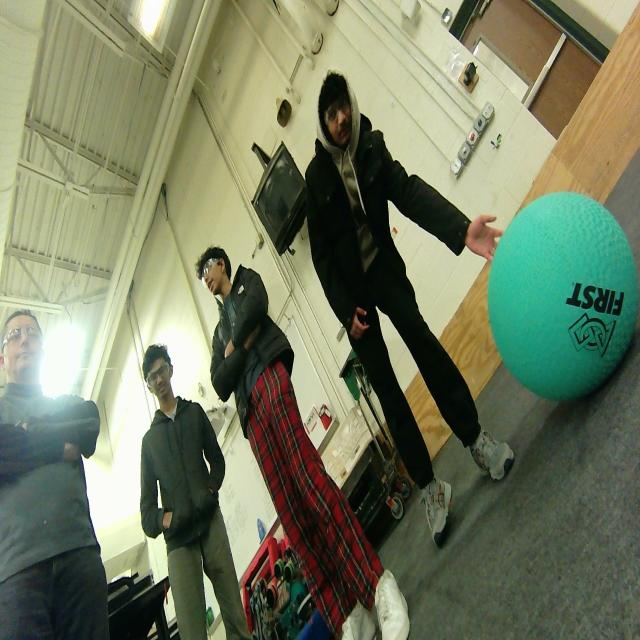algae: (488, 192, 638, 401)
